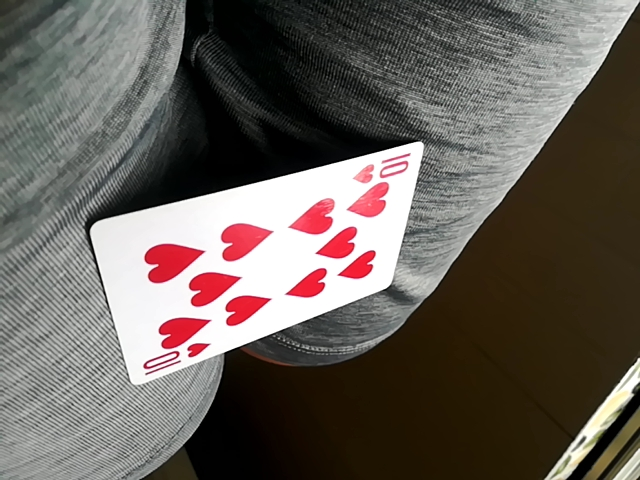hx 10: (89, 146, 418, 380)
